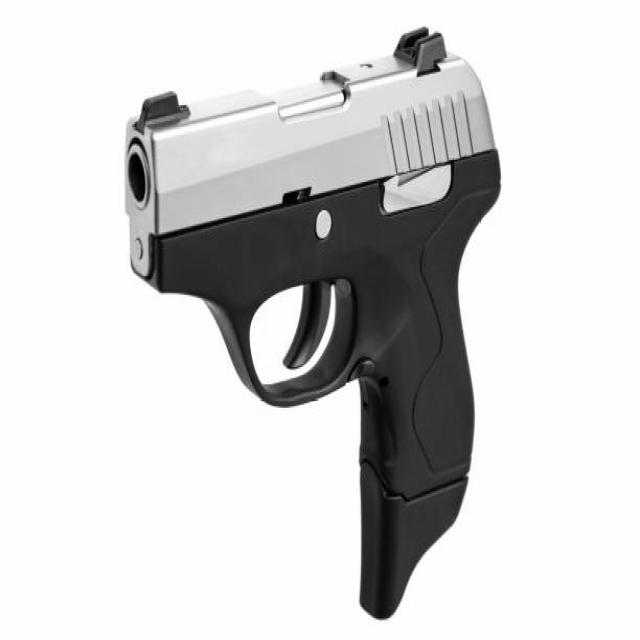pistol: (117, 14, 512, 628)
